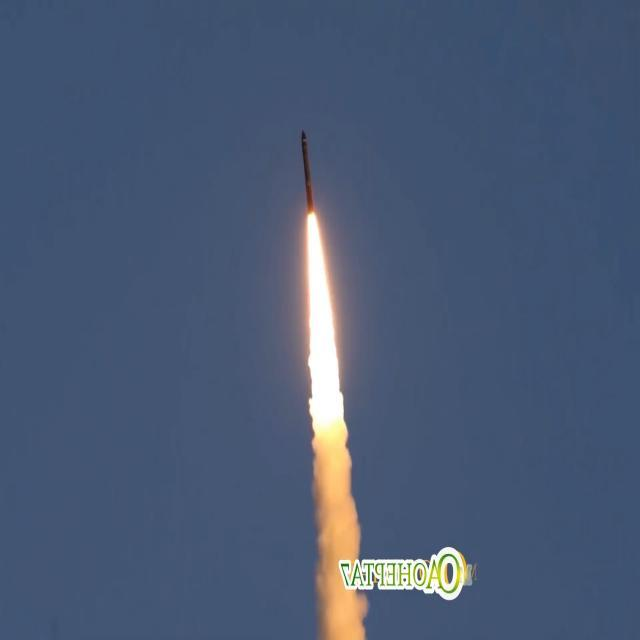Missile: (296, 121, 324, 227)
